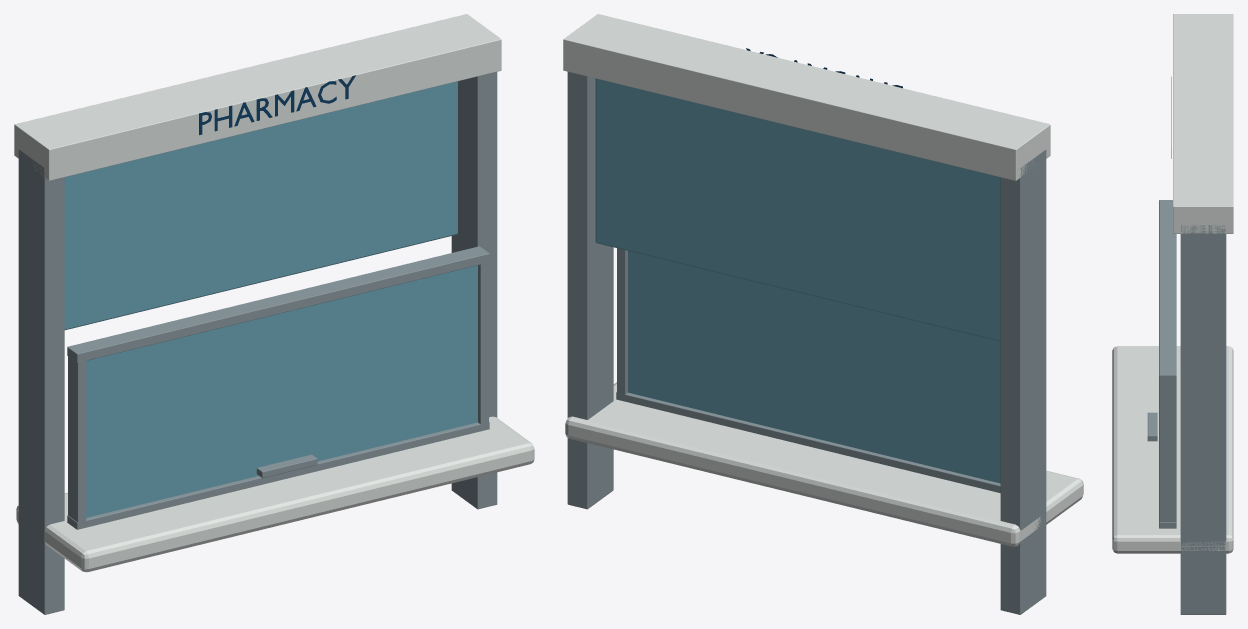
The picture shows the model from 3 angles, left to right: view 1: azimuth 30°, elevation 25°; view 2: azimuth 150°, elevation 25°; view 3: azimuth 270°, elevation 25°; orthographic projection. The views are drawn at different scales.
Visible parts, largest first — view 1: SASH_Glass, FIXED_UpperGlass, FRAME_Header, COUNTER_Ledge, FRAME_Jamb, FRAME_Jamb.001, SASH_Rail.001, SASH_Rail, SASH_Stile, SASH_Stile.001, EDITABLE_Title, SASH_Handle; view 2: FIXED_UpperGlass, SASH_Glass, FRAME_Header, COUNTER_Ledge, FRAME_Jamb, FRAME_Jamb.001, SASH_Rail, SASH_Stile.001; view 3: FRAME_Jamb.001, FRAME_Header, COUNTER_Ledge, SASH_Rail.001, SASH_Stile.001, SASH_Handle.
Boxes of the visible parts, x1=… form: SASH_Glass: x1=86, y1=265, x2=477, y2=517; FIXED_UpperGlass: x1=64, y1=81, x2=457, y2=330; FRAME_Header: x1=14, y1=14, x2=501, y2=180; COUNTER_Ledge: x1=16, y1=416, x2=534, y2=572; FRAME_Jamb: x1=18, y1=149, x2=64, y2=614; FRAME_Jamb.001: x1=451, y1=72, x2=497, y2=509; SASH_Rail.001: x1=67, y1=246, x2=489, y2=362; SASH_Rail: x1=67, y1=422, x2=489, y2=529; SASH_Stile: x1=68, y1=354, x2=86, y2=526; SASH_Stile.001: x1=478, y1=256, x2=488, y2=430; EDITABLE_Title: x1=199, y1=75, x2=355, y2=135; SASH_Handle: x1=256, y1=454, x2=317, y2=478; FIXED_UpperGlass: x1=595, y1=78, x2=1000, y2=341; SASH_Glass: x1=628, y1=251, x2=1000, y2=483; FRAME_Header: x1=563, y1=14, x2=1050, y2=180; COUNTER_Ledge: x1=565, y1=382, x2=1083, y2=546; FRAME_Jamb: x1=1000, y1=149, x2=1046, y2=614; FRAME_Jamb.001: x1=567, y1=72, x2=613, y2=509; SASH_Rail: x1=616, y1=392, x2=1000, y2=492; SASH_Stile.001: x1=617, y1=248, x2=627, y2=399; FRAME_Jamb.001: x1=1180, y1=225, x2=1226, y2=614; FRAME_Header: x1=1173, y1=14, x2=1233, y2=233; COUNTER_Ledge: x1=1112, y1=346, x2=1233, y2=553; SASH_Rail.001: x1=1159, y1=200, x2=1176, y2=382; SASH_Stile.001: x1=1159, y1=383, x2=1176, y2=521; SASH_Handle: x1=1147, y1=412, x2=1157, y2=441.
Size of the model in its own units: 1.8 by 1.78 by 0.48.
